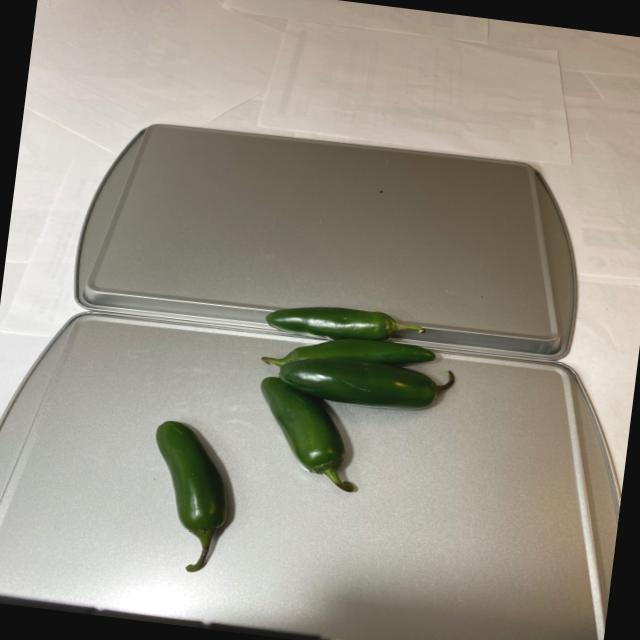chilli: (142, 286, 468, 604)
